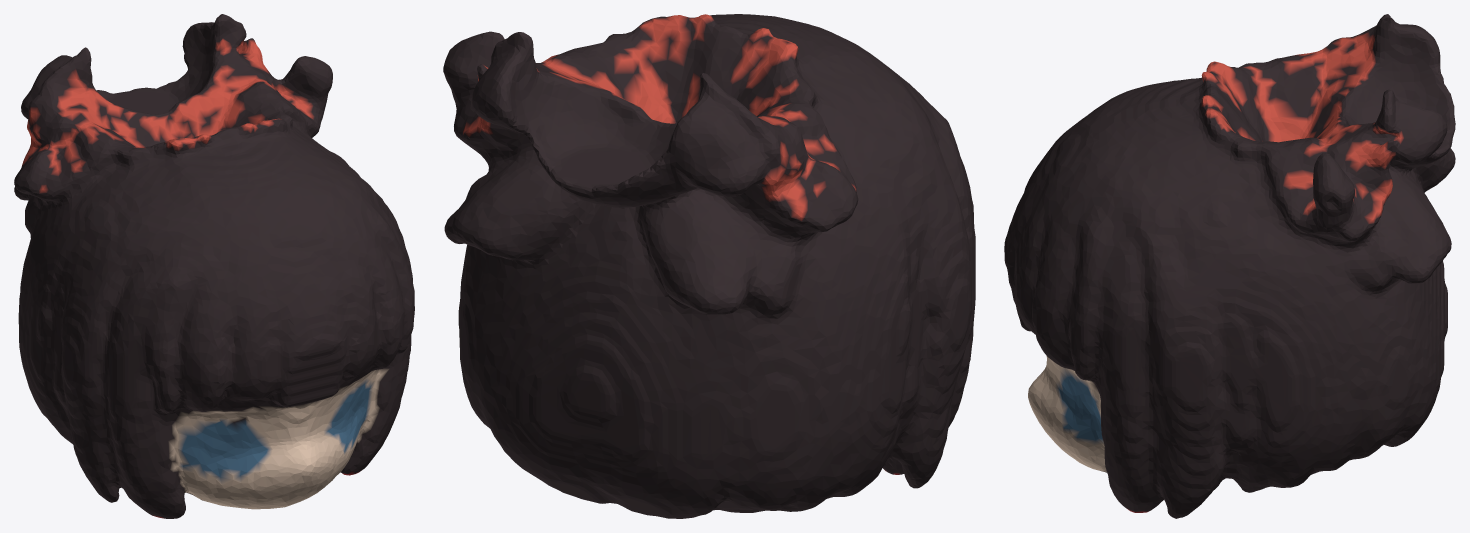
The model's file is head.glb.
3 views of the same model, side by side, from view 1: azimuth 30°, elevation 25°; view 2: azimuth 150°, elevation 25°; view 3: azimuth 270°, elevation 25° (orthographic). The views are drawn at different scales.
Visible parts, largest first — view 1: geometry_0; view 2: geometry_0; view 3: geometry_0.
Boxes of the visible parts, box(x1,y1,x2,y2) form: geometry_0: box(14, 14, 414, 518); geometry_0: box(443, 14, 975, 518); geometry_0: box(1004, 14, 1455, 518).
Size of the model in its own units: 0.7631 by 0.8267 by 0.8186.
